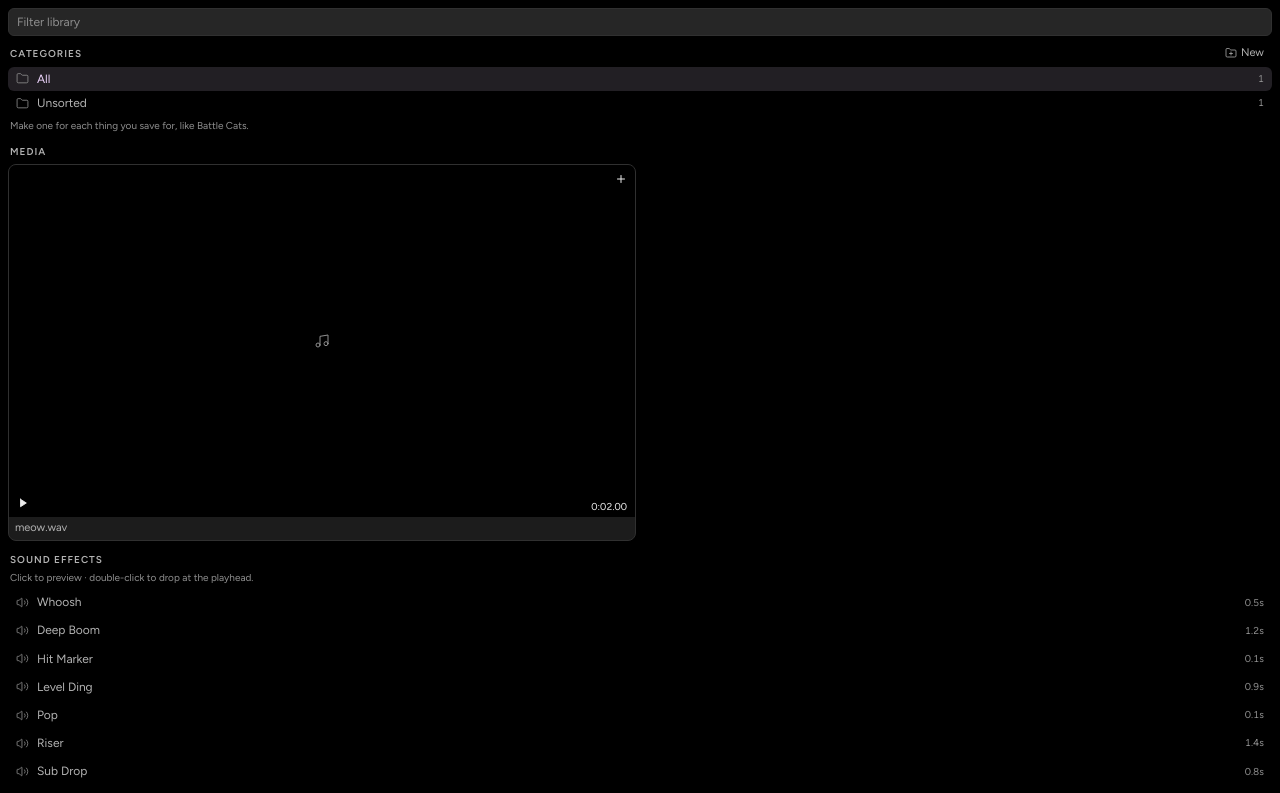
the Library tab with categories › names a new category in the dialog and shows it
Click the button with test id "library-new-category": click(1244, 53) [1219,44,1270,63]
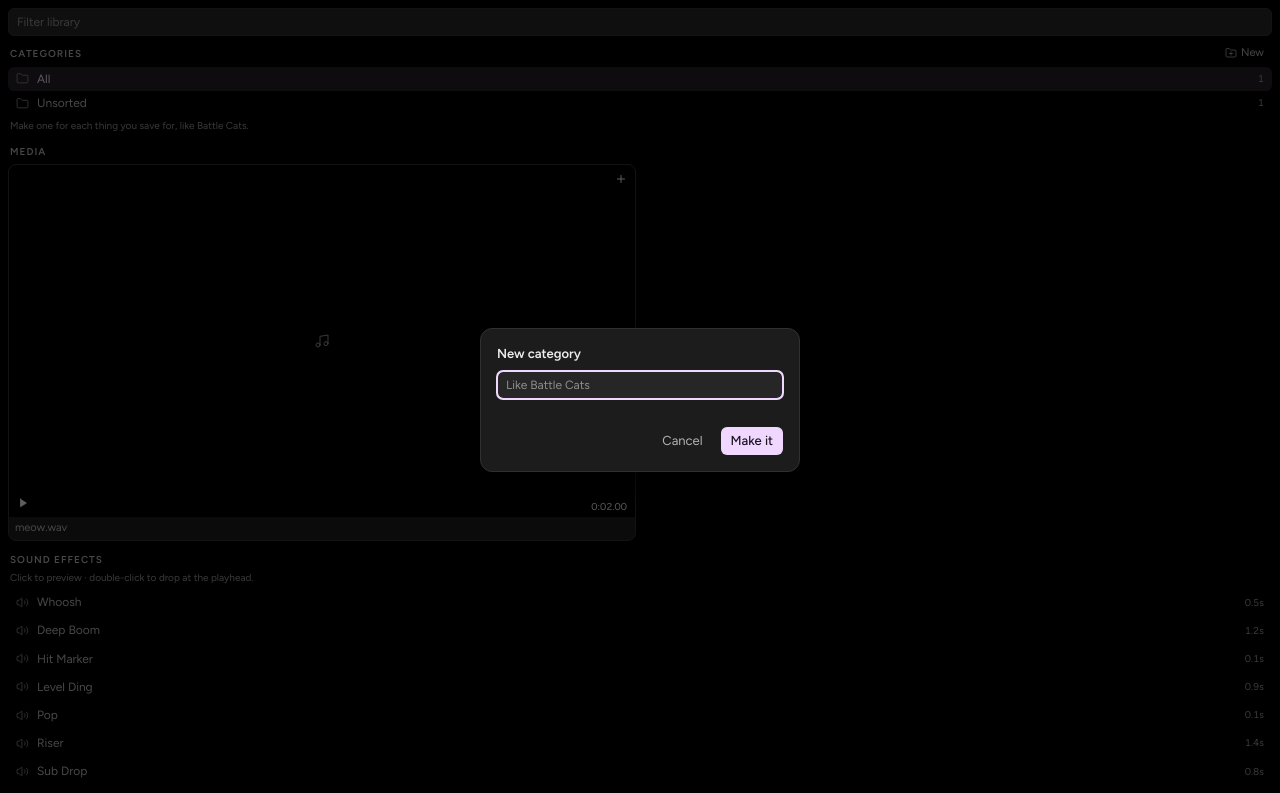
In the field with test id "name-prompt-input": (640, 385) [497,371,783,399], type "Battle Cats"
Then press Enter
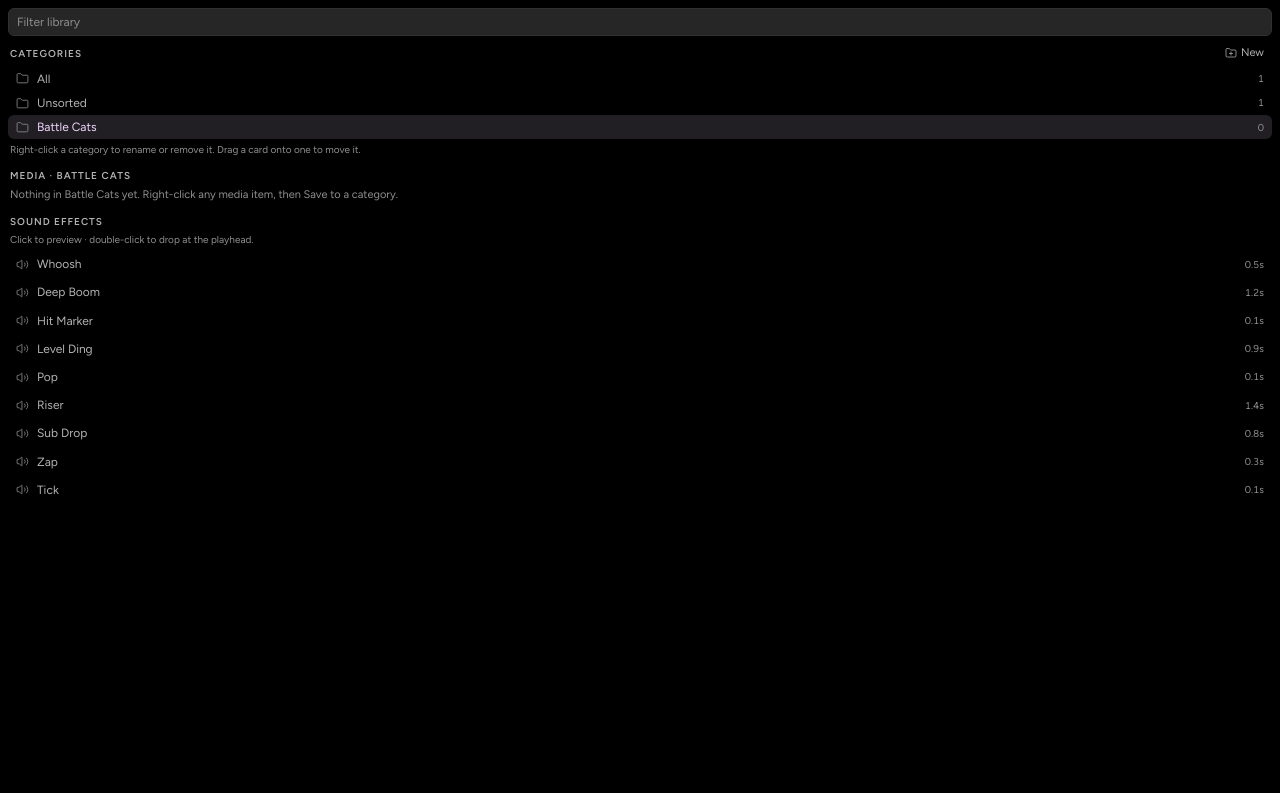
expect the button with test id "library-category" is shown: met, box [8,115,1272,139]
expect the dialog with test id "name-prompt" is gone: met
